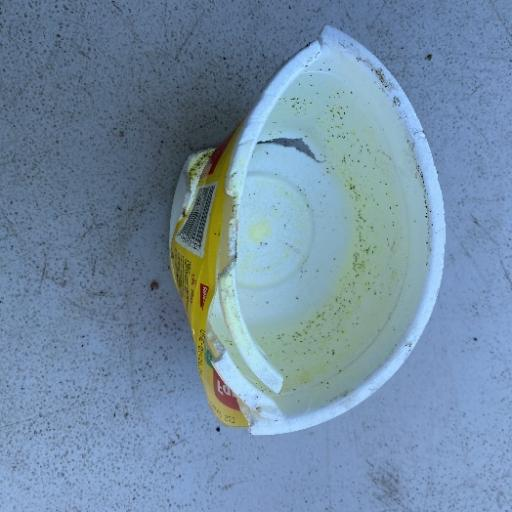Plastic: (165, 24, 448, 437)
